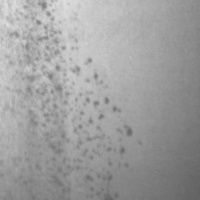pitted_surface: (9, 0, 135, 197)
